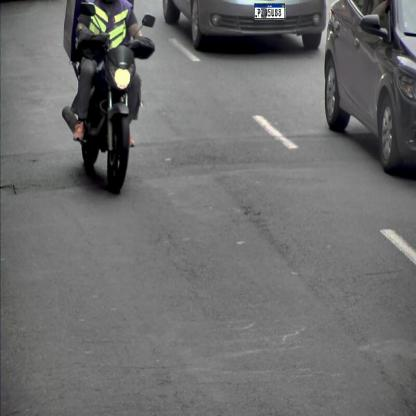PlacaM: (254, 3, 285, 19)
